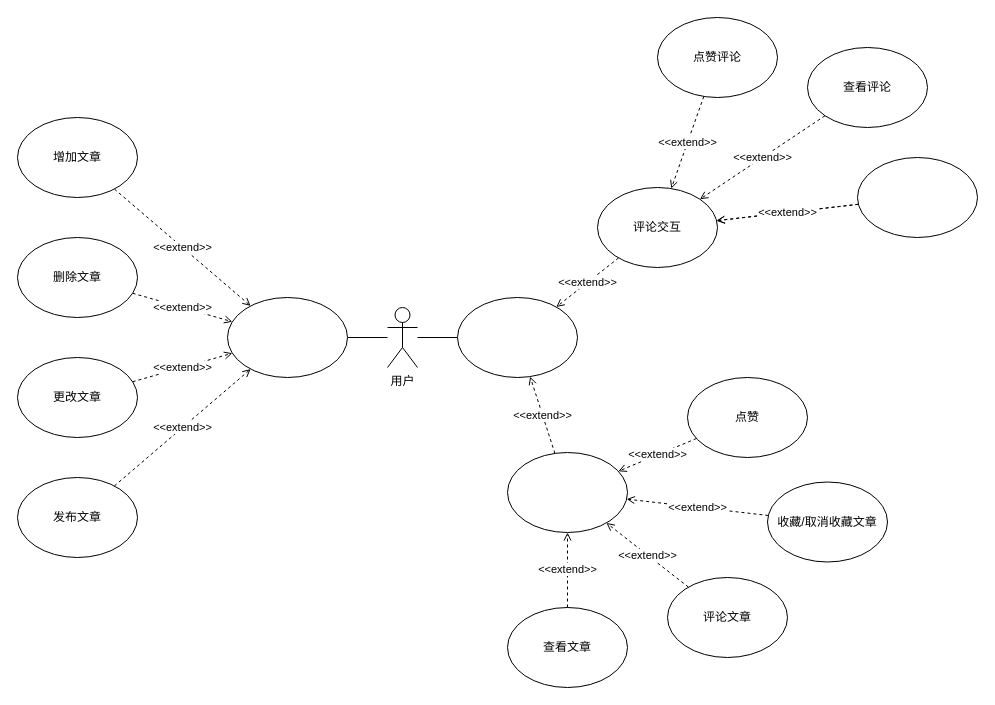
Some shapes in this 995 by 705 pixel diagram are drawn without their labels. Here are the shapes that lost their labels. From the top down, the centre of each, then its label:
point (917, 197): 删除评论
point (287, 337): 编辑文章
point (517, 337): 阅读文章
point (567, 492): 文章交互
